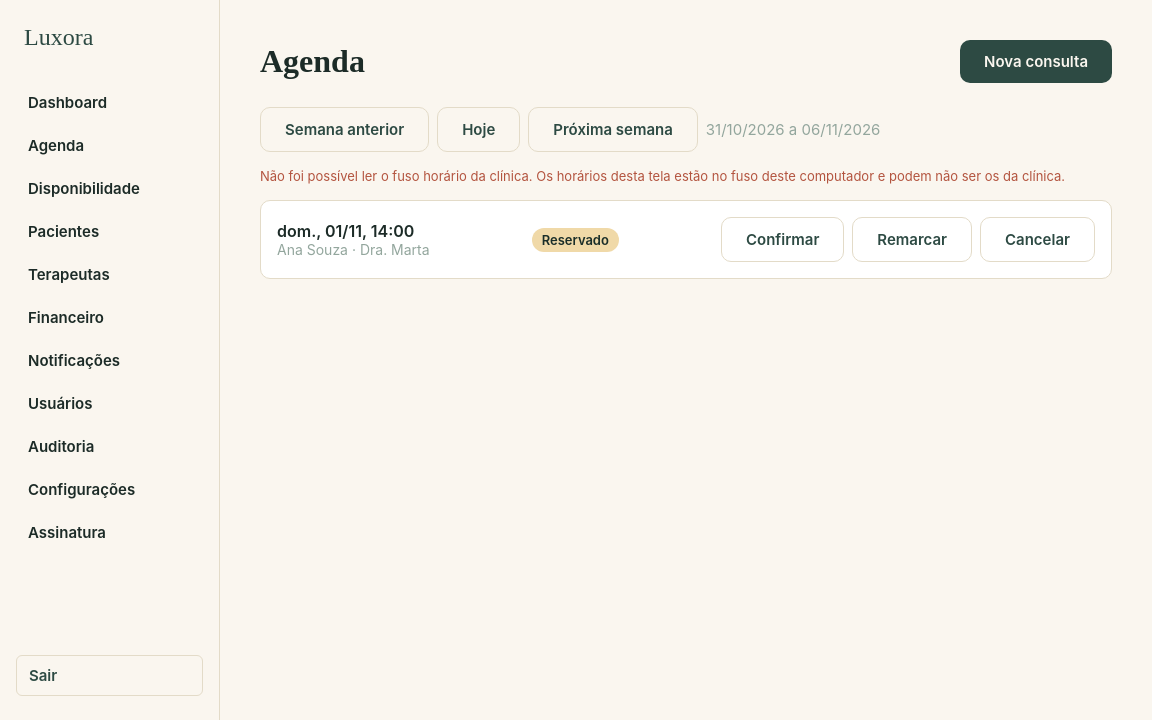
Test: AgendaPage — ações de cada estado › erro ao confirmar exibe a regra de negócio devolvida, sem quebrar a lista
The image size is (1152, 720).
Click the button "Confirmar" at {"x": 783, "y": 240}, box [721,217,844,262]
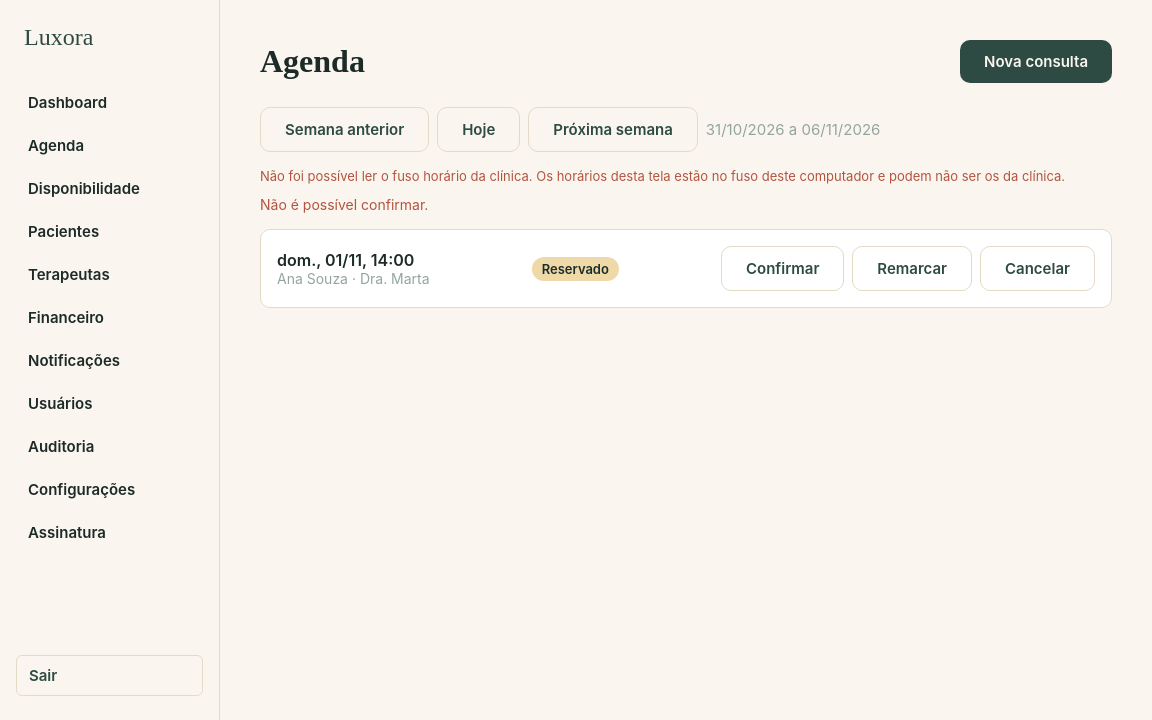
Check: the text "Ana Souza · Dra. Marta" is shown, box [277,270,430,287]
Check: the message shows "Não é possível confirmar", box [260,196,428,213]
